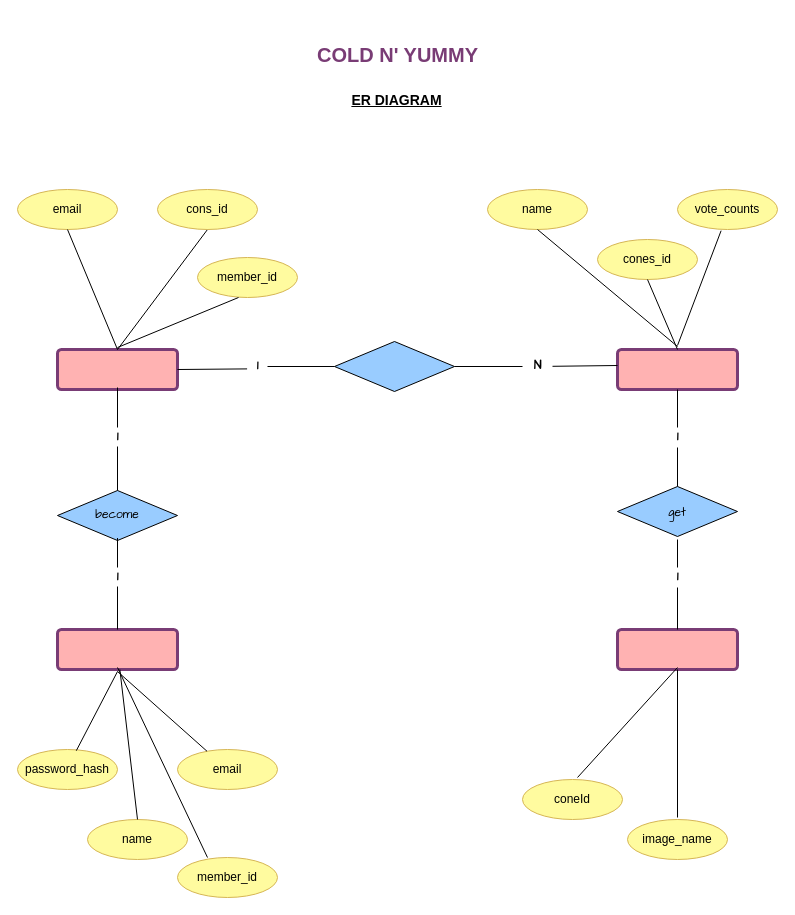
Image size: 795x915. Some labels were removed from this diagram. The shapes that lost their labels are listed below. From the top down, each one's centre as x and y in pixels, then its label:
the point at 117,369: voter
the point at 394,366: vote
the point at 677,369: cones
the point at 117,649: member
the point at 677,649: images
